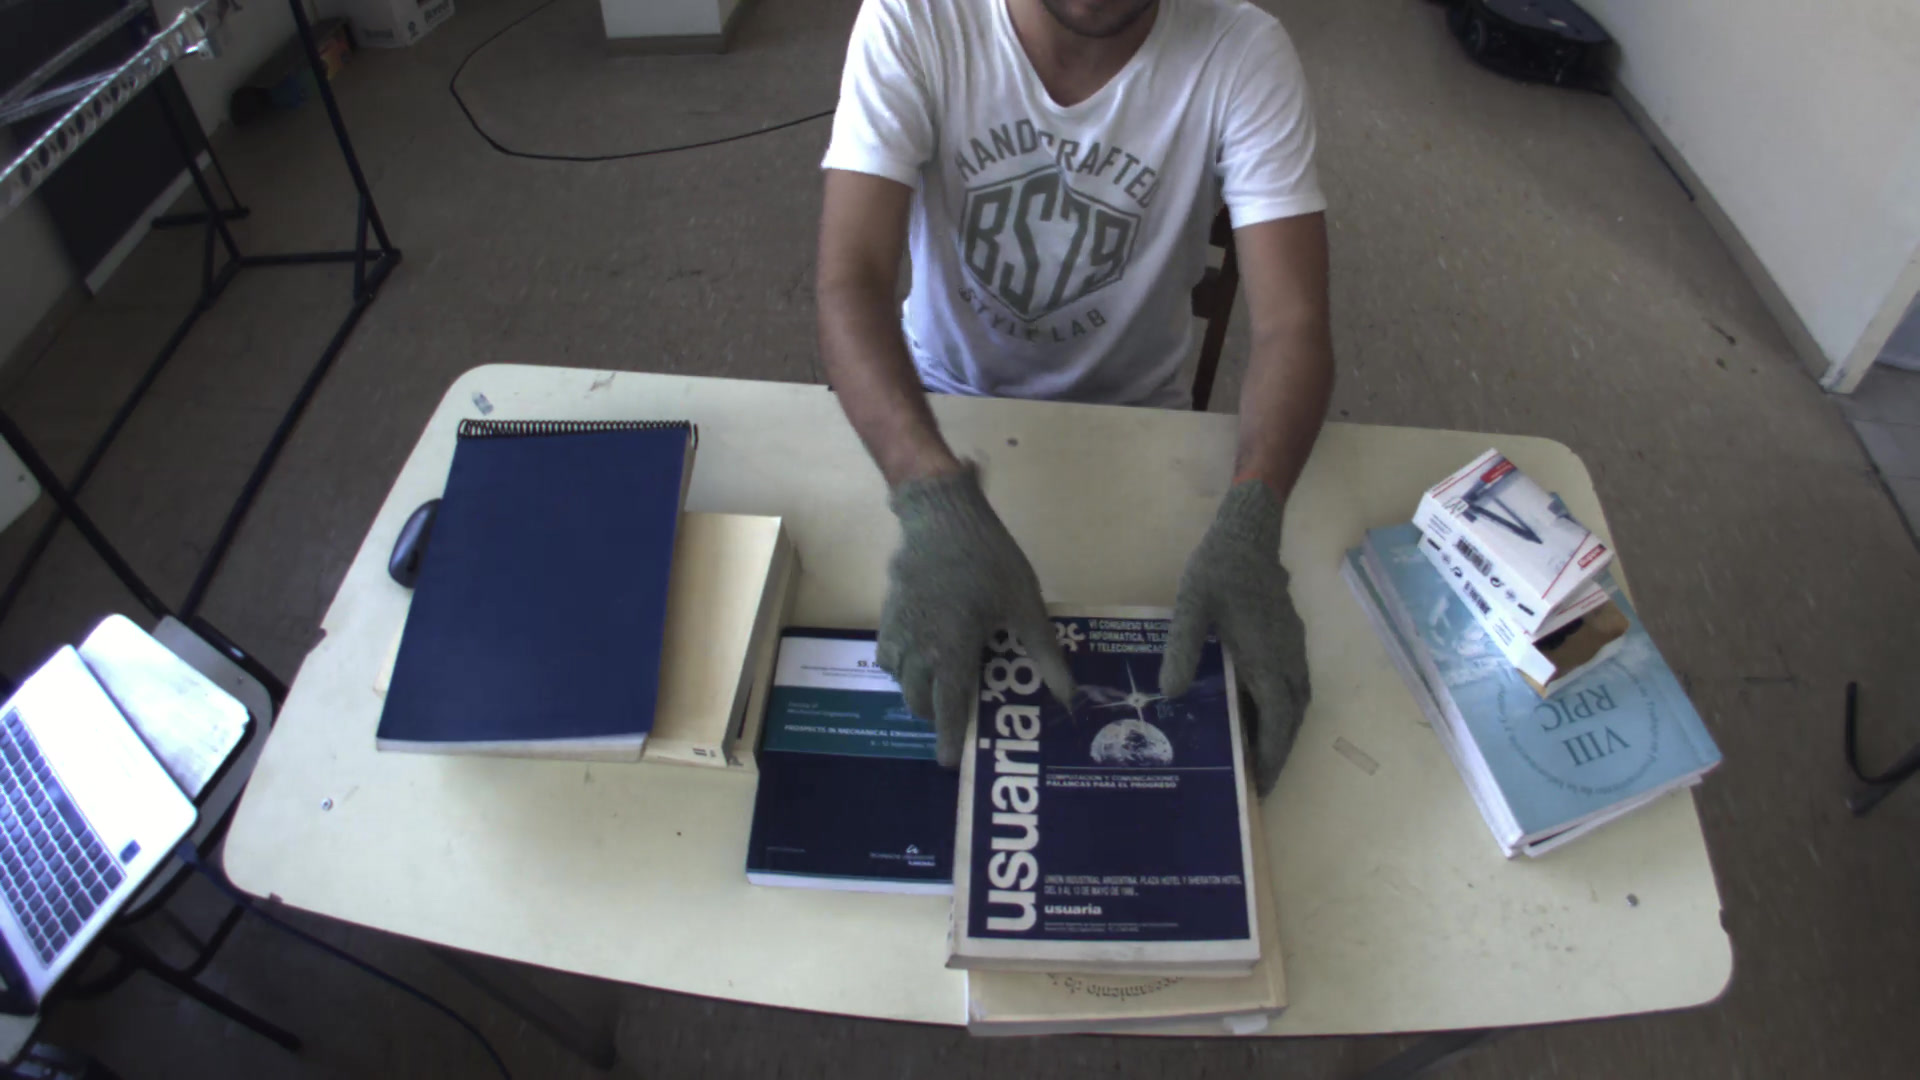hand: (857, 448, 1073, 779), (1150, 462, 1319, 793)
